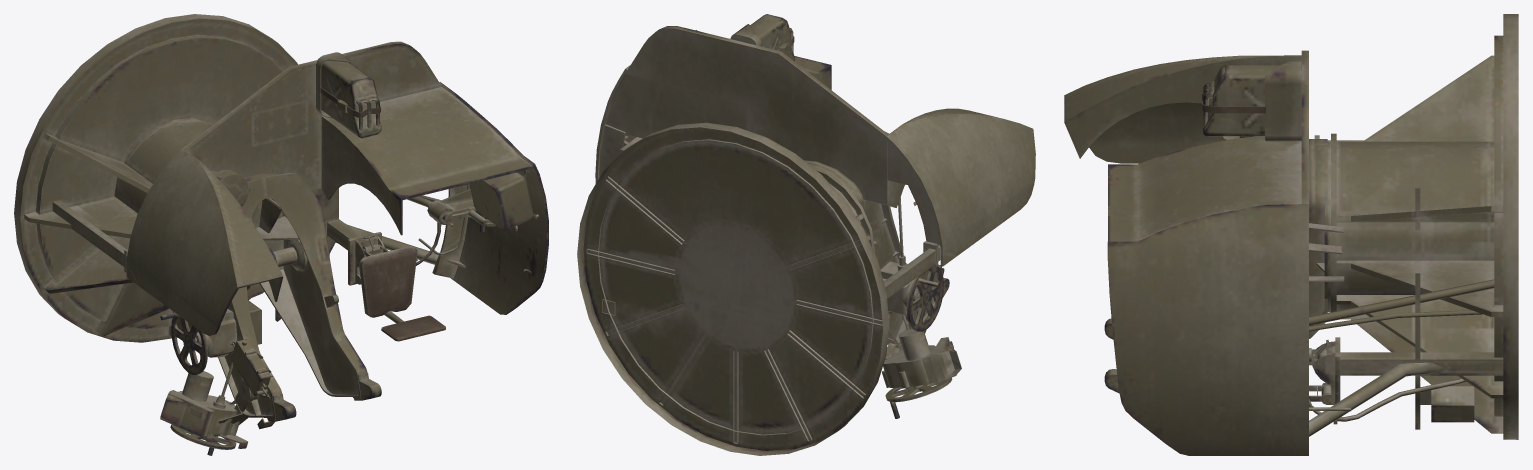
File: Turret_01.glb
3 renders of one model, left to right at view 1: azimuth 30°, elevation 25°; view 2: azimuth 150°, elevation 25°; view 3: azimuth 270°, elevation 25°, orthographic. The views are drawn at different scales.
Visible parts, largest first — view 1: set_0_group_0; view 2: set_0_group_0; view 3: set_0_group_0.
Boxes of the visible parts, x1=… form: set_0_group_0: x1=14, y1=14, x2=548, y2=455; set_0_group_0: x1=577, y1=14, x2=1035, y2=455; set_0_group_0: x1=1064, y1=14, x2=1518, y2=455.
Bounding box in the file's own units: 2.16 × 1.99 × 1.88.
1 material, 1 textured.
